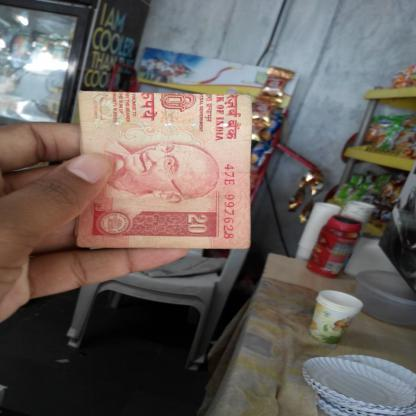Old20Front: (80, 92, 246, 248)
